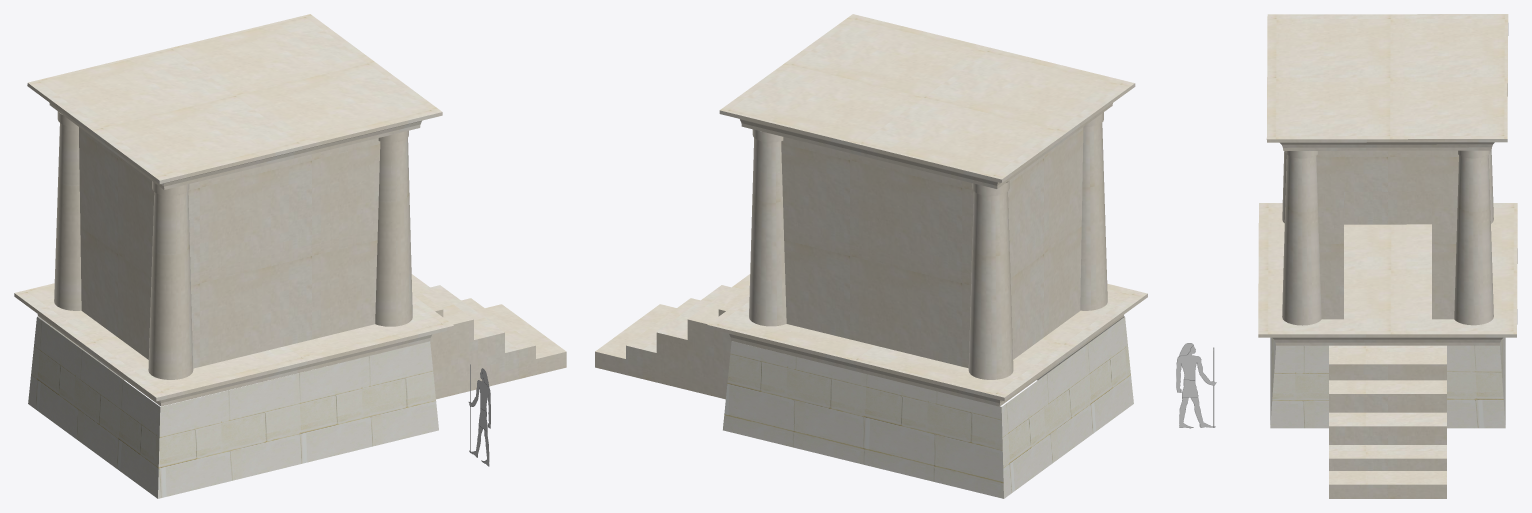
The model's file is Serapeum_Chapels.obj.
3 views of the same model, side by side, from view 1: azimuth 30°, elevation 25°; view 2: azimuth 150°, elevation 25°; view 3: azimuth 270°, elevation 25° (orthographic). The views are drawn at different scales.
Parts seen in each view (by area): view 1: Mesh9 Model, Mesh8 Model, Mesh6 Component_1_2 Component_2_1 Model, Mesh1 Component_1_1 Model, Mesh3 Component_8_2 Model, Mesh2 Component_8_1 Model, Mesh4 Component_8_3 Model, Mesh10 Model; view 2: Mesh9 Model, Mesh8 Model, Mesh6 Component_1_2 Component_2_1 Model, Mesh1 Component_1_1 Model, Mesh4 Component_8_3 Model, Mesh5 Component_8_4 Model, Mesh3 Component_8_2 Model; view 3: Mesh6 Component_1_2 Component_2_1 Model, Mesh8 Model, Mesh1 Component_1_1 Model, Mesh9 Model, Mesh5 Component_8_4 Model, Mesh2 Component_8_1 Model, Mesh10 Model.
Part boxes in pixels (x1,y1,x2,y2): Mesh9 Model: (79, 127, 380, 368); Mesh8 Model: (28, 274, 566, 498); Mesh6 Component_1_2 Component_2_1 Model: (27, 14, 442, 189); Mesh1 Component_1_1 Model: (14, 283, 454, 406); Mesh3 Component_8_2 Model: (148, 181, 193, 379); Mesh2 Component_8_1 Model: (375, 130, 412, 326); Mesh4 Component_8_3 Model: (54, 111, 81, 310); Mesh10 Model: (468, 364, 490, 466); Mesh9 Model: (762, 127, 1083, 368); Mesh8 Model: (595, 274, 1133, 498); Mesh6 Component_1_2 Component_2_1 Model: (719, 14, 1135, 188); Mesh1 Component_1_1 Model: (707, 283, 1147, 406); Mesh4 Component_8_3 Model: (968, 180, 1013, 379); Mesh5 Component_8_4 Model: (749, 129, 786, 326); Mesh3 Component_8_2 Model: (1080, 112, 1107, 310); Mesh6 Component_1_2 Component_2_1 Model: (1266, 14, 1508, 150); Mesh8 Model: (1270, 337, 1505, 498); Mesh1 Component_1_1 Model: (1258, 203, 1517, 345); Mesh9 Model: (1316, 150, 1458, 319); Mesh5 Component_8_4 Model: (1454, 150, 1493, 325); Mesh2 Component_8_1 Model: (1282, 151, 1321, 325); Mesh10 Model: (1176, 343, 1216, 428).
Size of the model in its own units: 7.98 by 5.44 by 5.8.
Materials: 4 (4 with a texture image).
